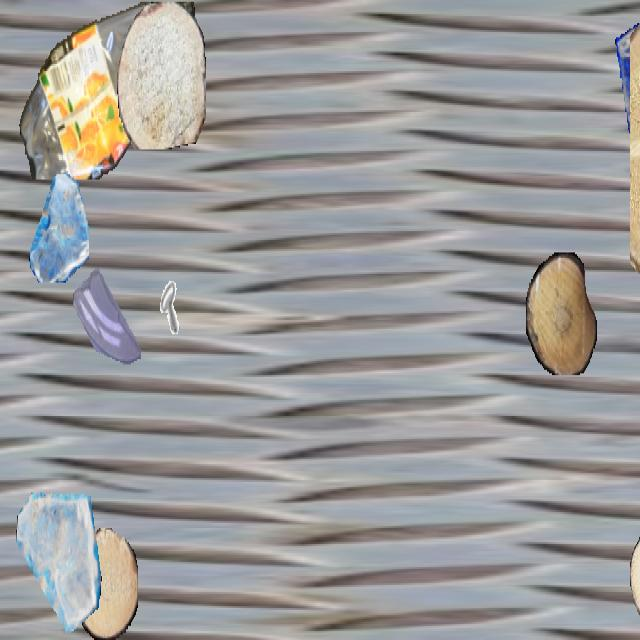glass: (15, 486, 101, 638), (73, 256, 141, 377), (28, 174, 88, 281), (615, 2, 640, 165)
metal: (135, 272, 181, 354), (634, 441, 640, 540)
plastic: (18, 2, 200, 180)
wood: (117, 2, 205, 148), (526, 252, 596, 374), (76, 528, 138, 638), (630, 2, 640, 300), (630, 524, 640, 628)
